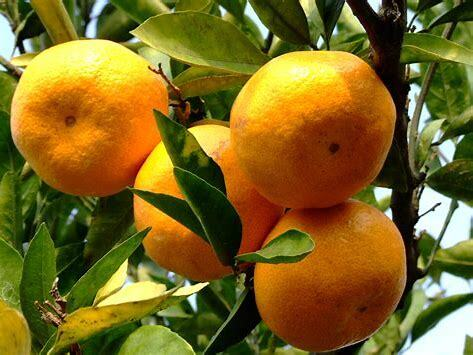orange: (231, 51, 398, 208), (10, 40, 172, 196), (133, 121, 288, 282), (253, 201, 407, 351)
